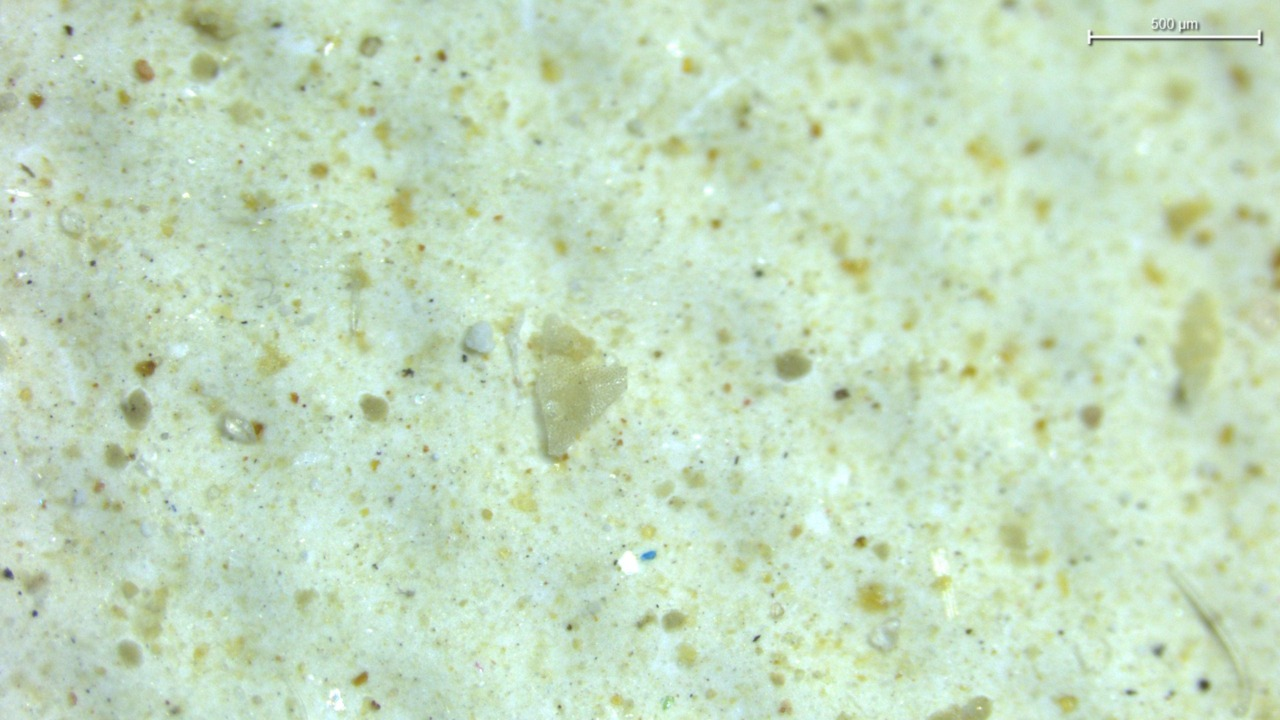microplastic_fragment: (528, 316, 626, 458), (222, 414, 264, 443), (464, 322, 495, 353)
